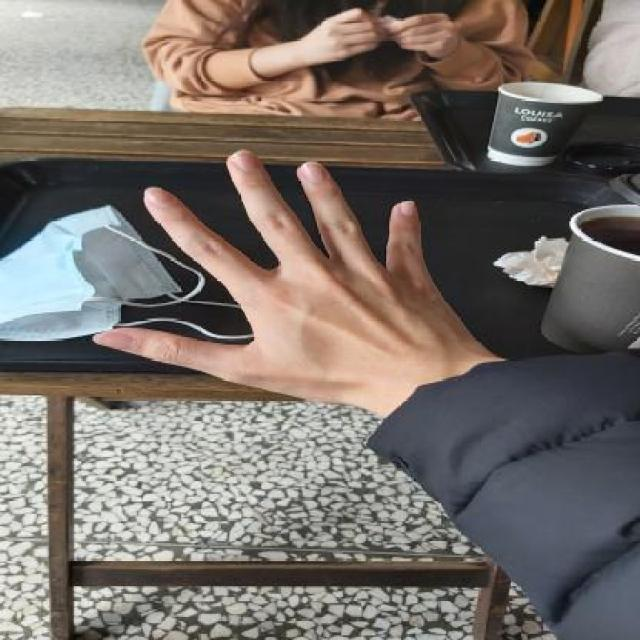bare_hand: (85, 137, 490, 414)
